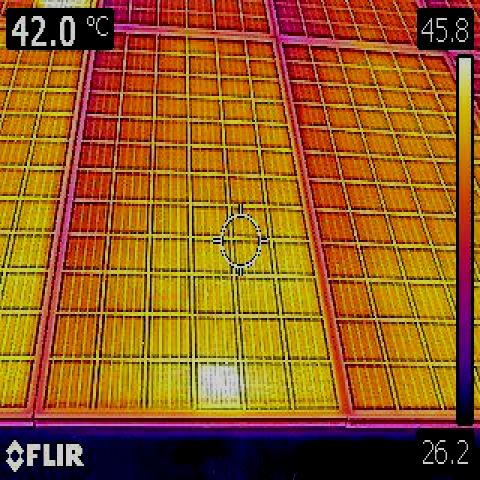fault: (192, 358, 246, 409)
